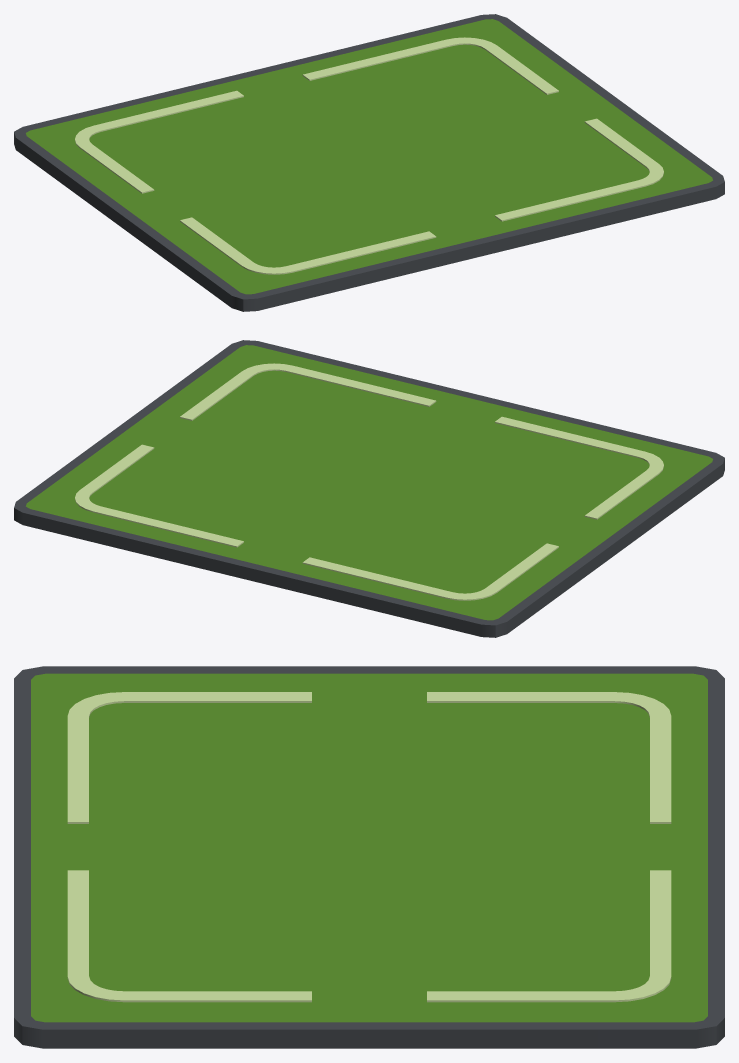
The model's file is SM_Finish_Area.fbx.
3 views of the same model, one above another, from view 1: azimuth 30°, elevation 25°; view 2: azimuth 150°, elevation 25°; view 3: azimuth 270°, elevation 25° (orthographic). The views are drawn at different scales.
Visible parts, largest first — view 1: SM_Finish_Area; view 2: SM_Finish_Area; view 3: SM_Finish_Area.
Boxes of the visible parts, <box> form: SM_Finish_Area: <box>14,14,724,311</box>; SM_Finish_Area: <box>14,340,724,637</box>; SM_Finish_Area: <box>14,666,724,1048</box>.
Bounding box in the file's own units: 499 × 13.28 × 413.
